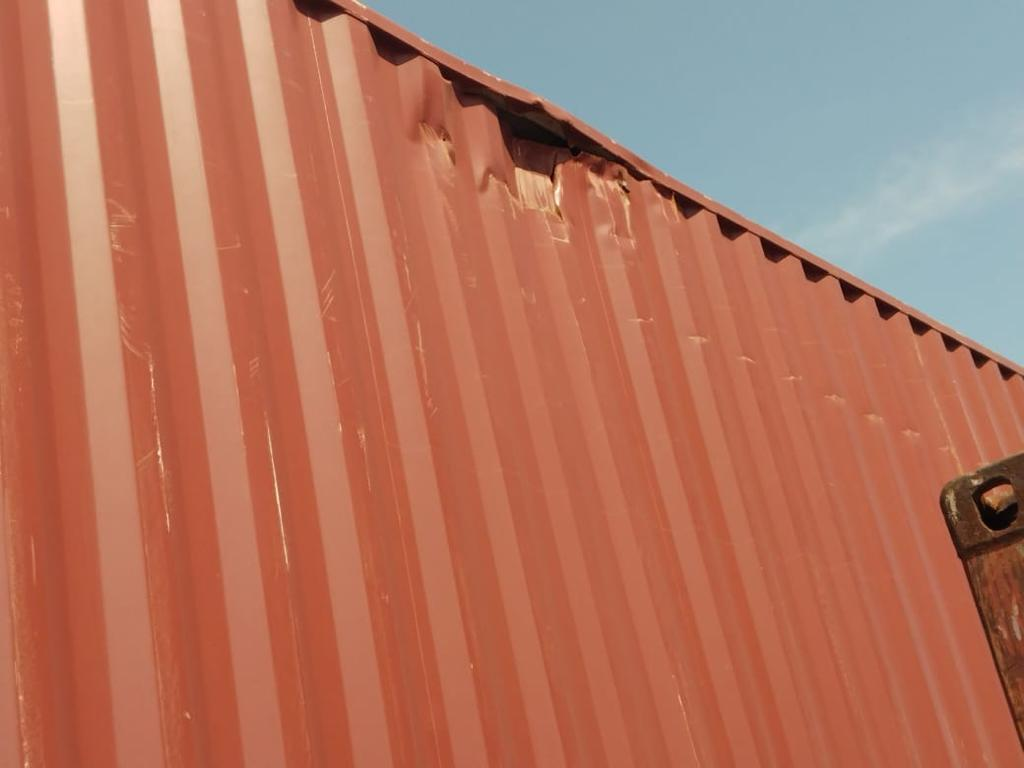severe: (411, 67, 639, 238)
